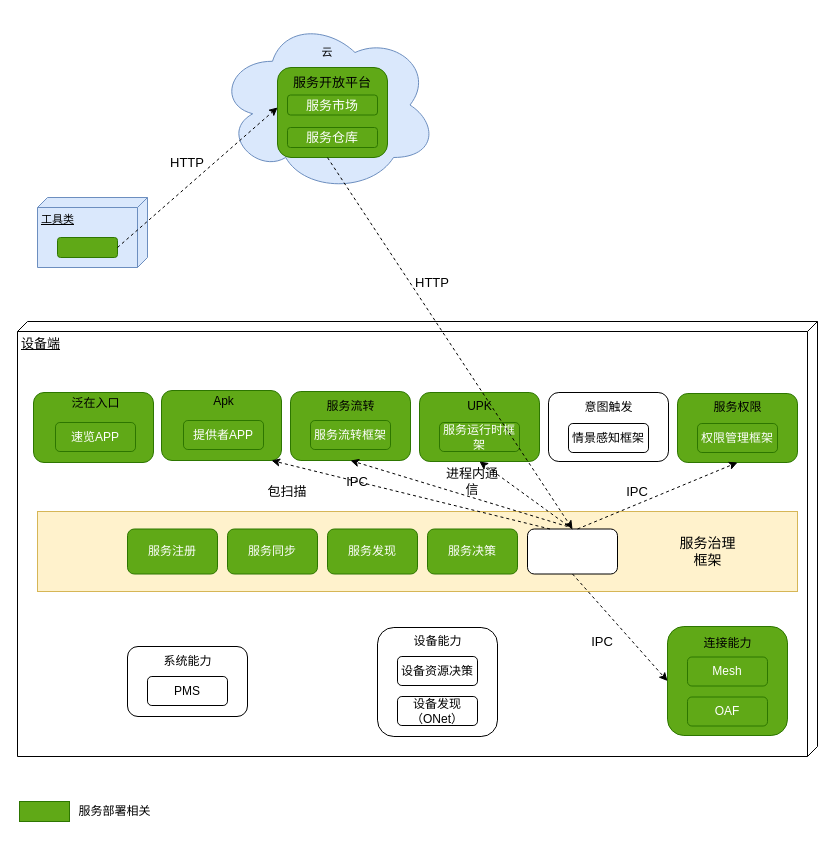
Image size: 835x844. Some labels were removed from this diagram. Each missing label, with the centre of its shape:
UPK IDE: pixel 87 247
服务部署: pixel 572 551
